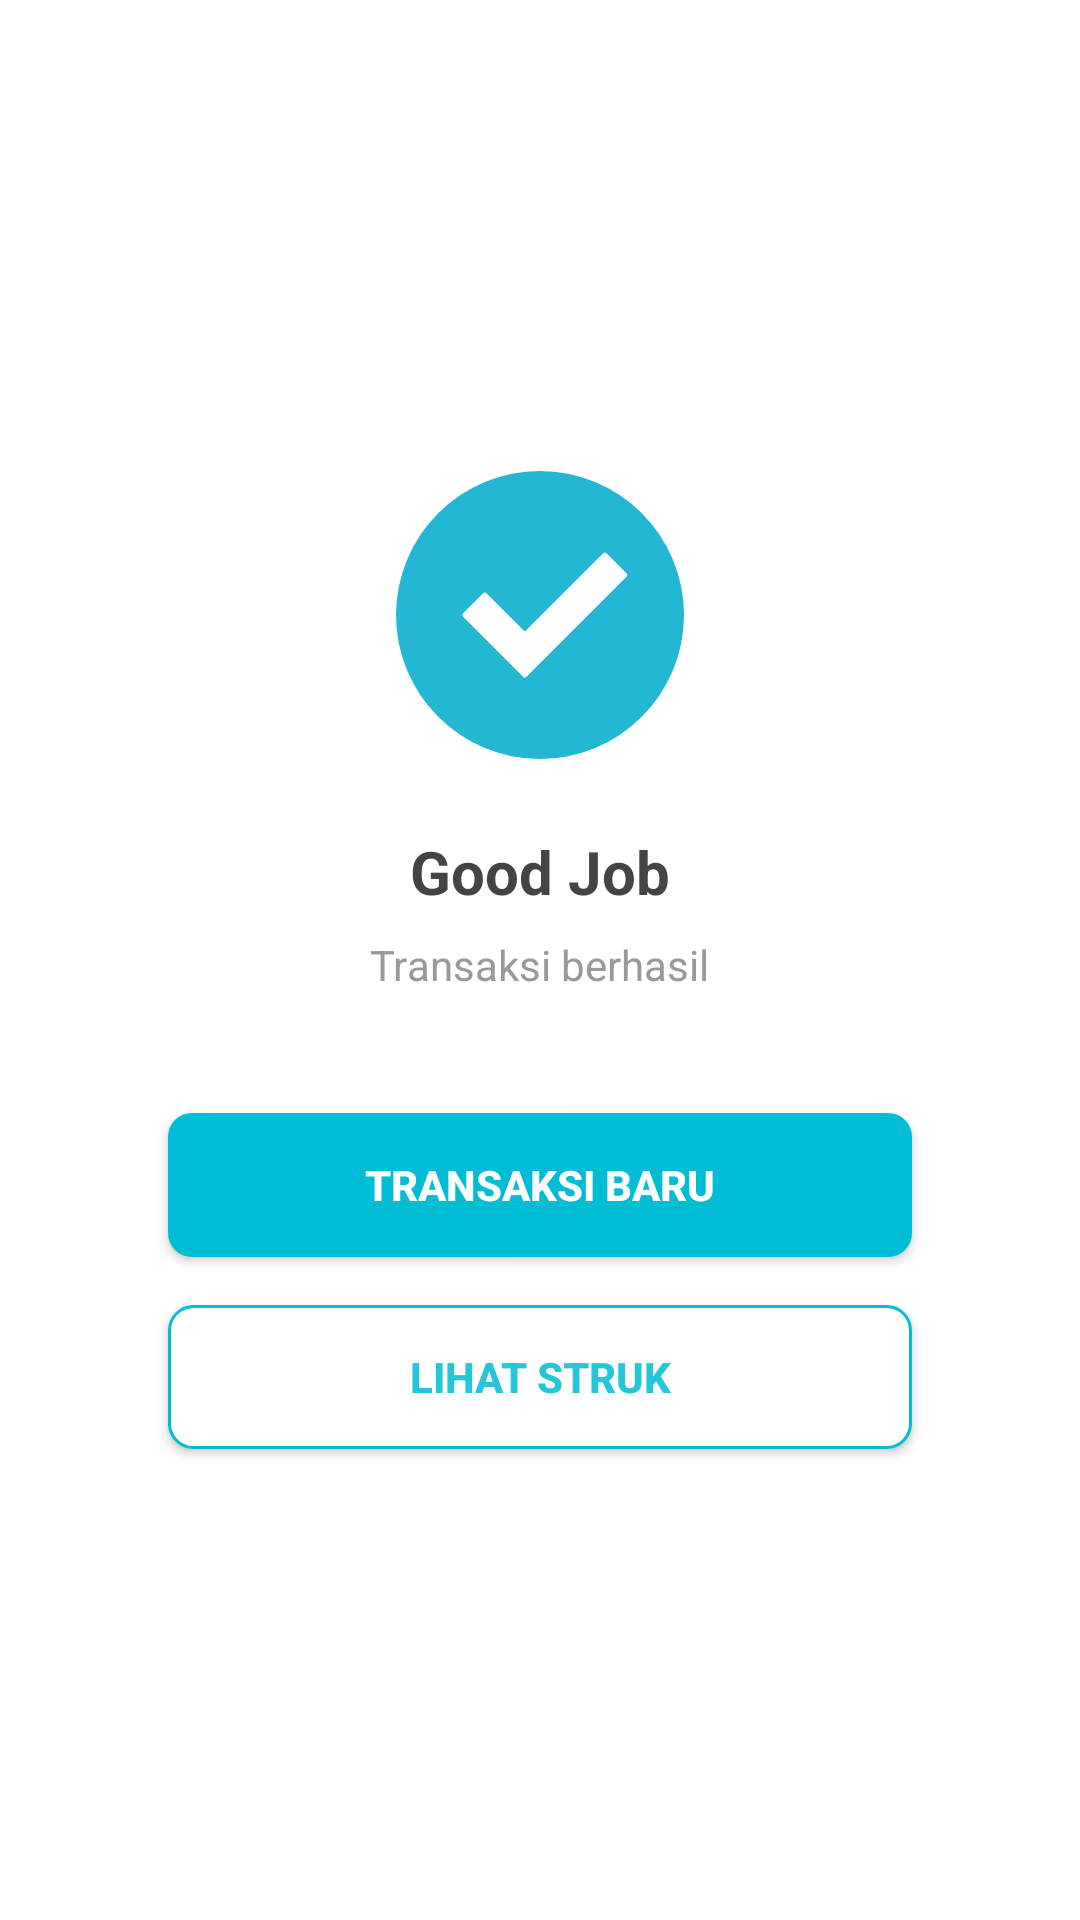

Where icons sit on this 1080px×1920px app screen, as (x1, y1, x2, y2):
check circle: (396, 471, 684, 759)
